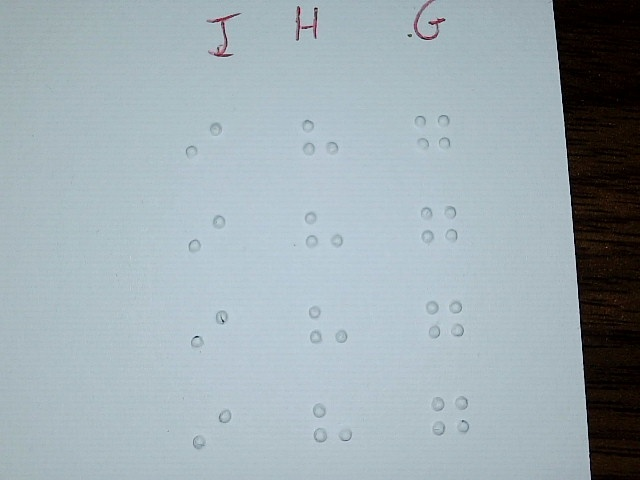G: (412, 103, 452, 173), (419, 195, 459, 265), (425, 288, 465, 358), (430, 383, 470, 453)
H: (300, 109, 340, 179), (304, 200, 344, 270), (308, 295, 348, 365), (312, 393, 352, 463)
I: (185, 111, 225, 181), (187, 203, 227, 273), (193, 399, 233, 469)
